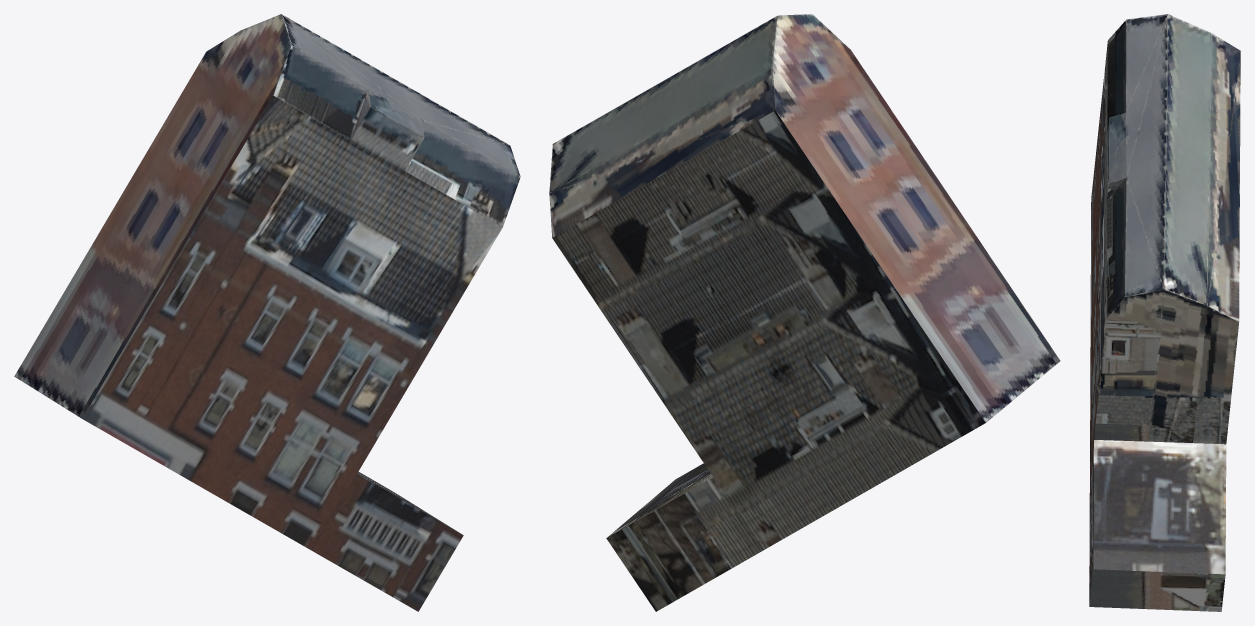
3 views of the same model, side by side, from view 1: azimuth 30°, elevation 25°; view 2: azimuth 150°, elevation 25°; view 3: azimuth 270°, elevation 25° (orthographic). The views are drawn at different scales.
Visible parts, largest first — view 1: BAG_0599100000671715 (×5); view 2: BAG_0599100000671715 (×5); view 3: BAG_0599100000671715 (×7).
Boxes of the visible parts, x1,y1,x2,y2 form: BAG_0599100000671715 (×5): [14, 14, 520, 611]; BAG_0599100000671715 (×5): [549, 14, 1060, 611]; BAG_0599100000671715 (×7): [1089, 14, 1240, 611].
Bounding box in the file's own units: 18.74 × 22.85 × 5.64.
8 materials, 8 textured.
